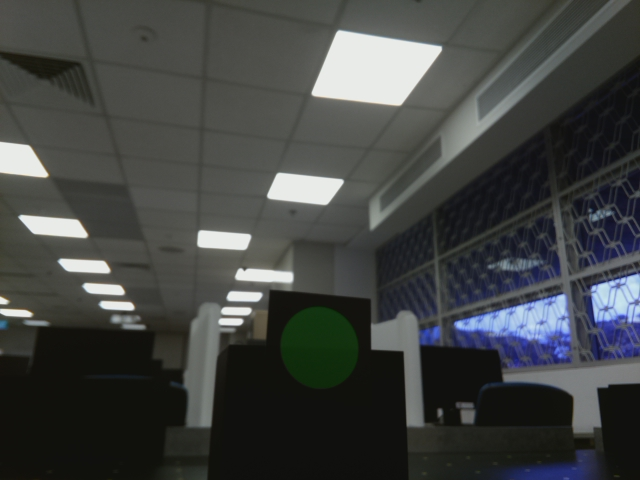go: (278, 301, 364, 396)
